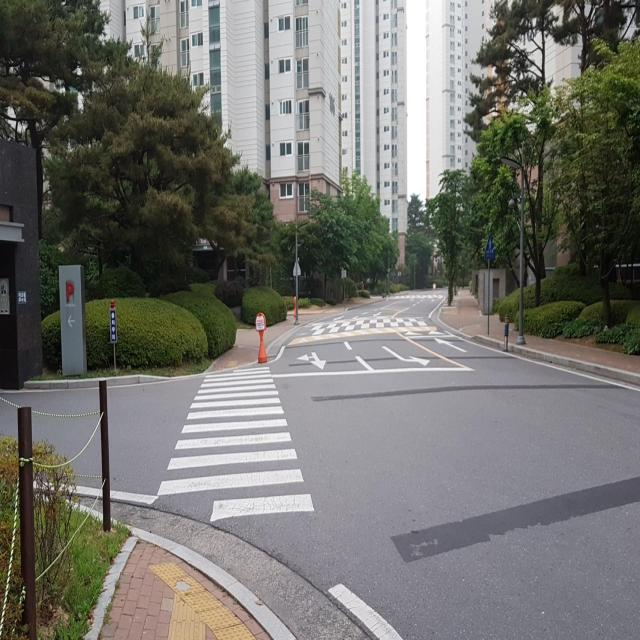횡단보도: (155, 363, 316, 526), (297, 318, 438, 341)
